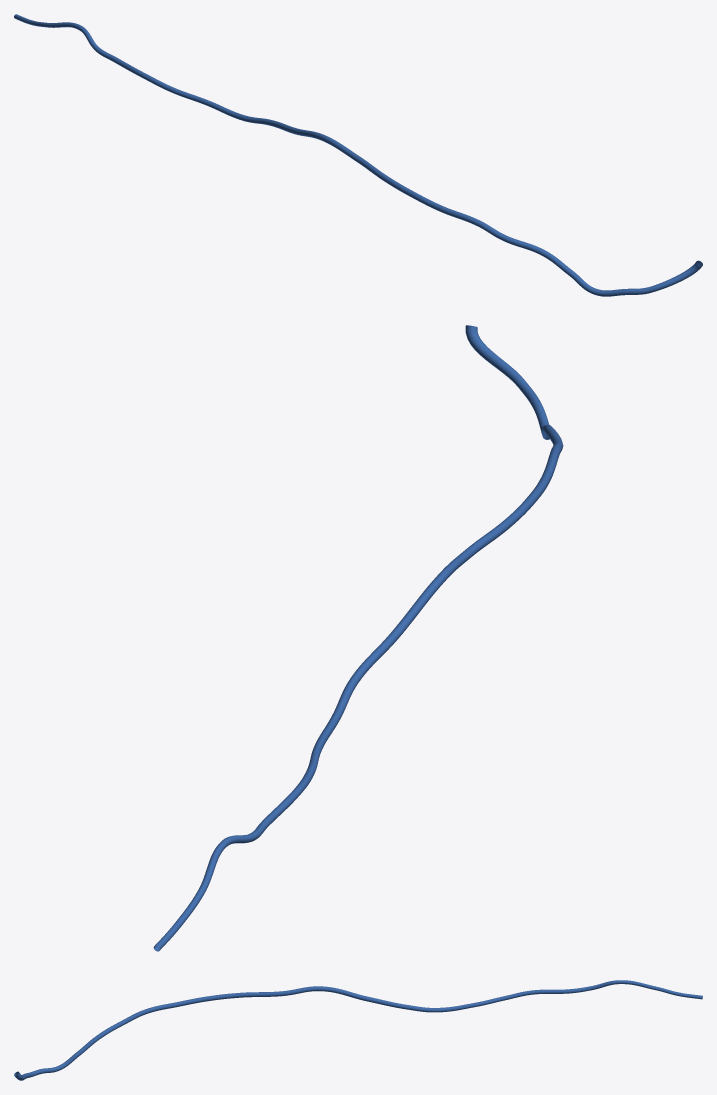
3 views of the same model, one above another, from view 1: azimuth 30°, elevation 25°; view 2: azimuth 150°, elevation 25°; view 3: azimuth 270°, elevation 25° (orthographic). The views are drawn at different scales.
Parts seen in each view (by area): view 1: 右侧头静脉; view 2: 右侧头静脉; view 3: 右侧头静脉.
Boxes of the visible parts, box(x1,y1,x2,y2) form: 右侧头静脉: box(14, 14, 702, 296); 右侧头静脉: box(153, 325, 563, 951); 右侧头静脉: box(14, 980, 702, 1080).
Bounding box in the file's own units: 0.2648 × 0.0617 × 0.8322.
